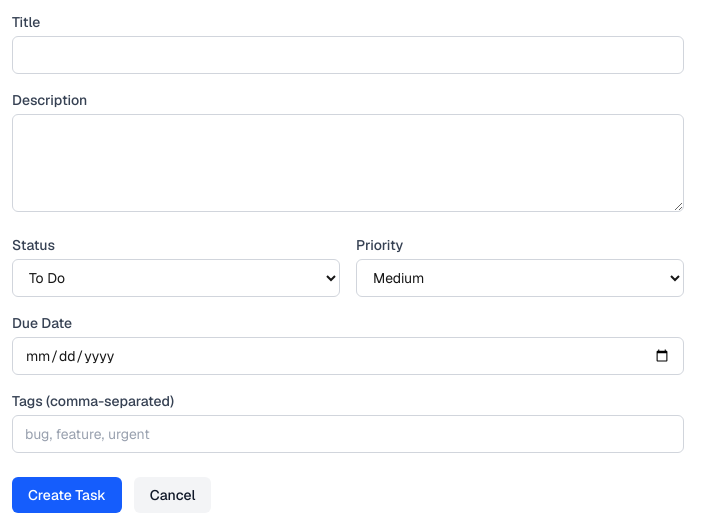
TaskForm › create mode › disables submit button while loading
The width and height of the screenshot is (702, 530).
Type "Test" into the field labelled "Title" at (348, 55), box left=12, top=36, right=684, bottom=74
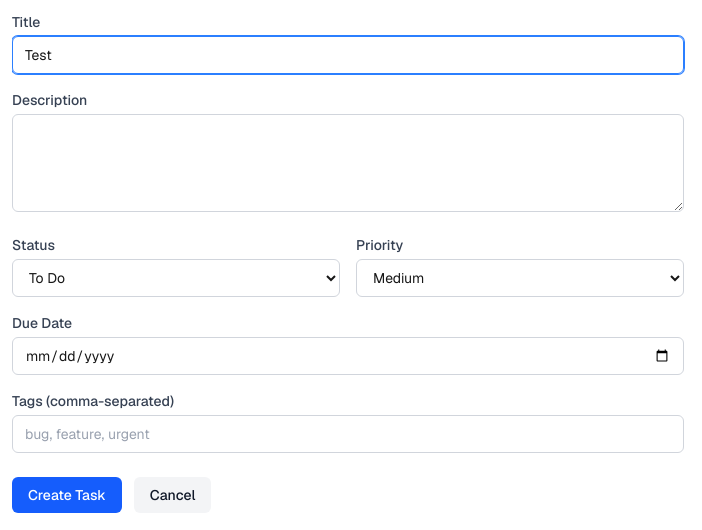
Click the button "Create Task" at (67, 495), box left=12, top=477, right=122, bottom=513
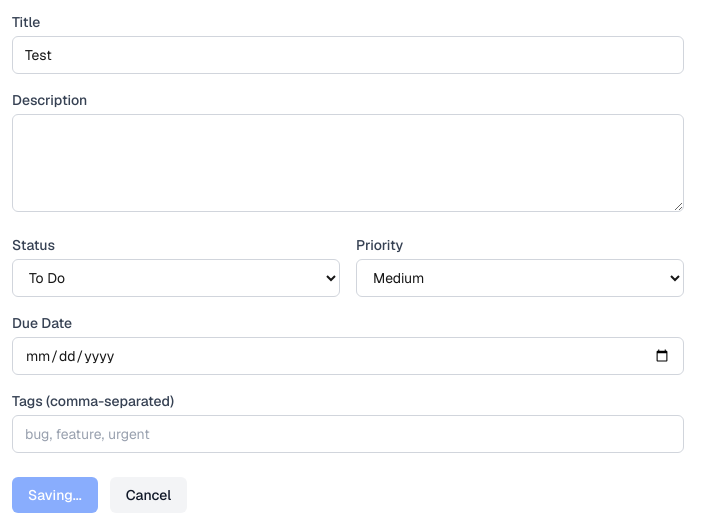
Check: the button "Saving..." is disabled, box left=12, top=477, right=98, bottom=513
